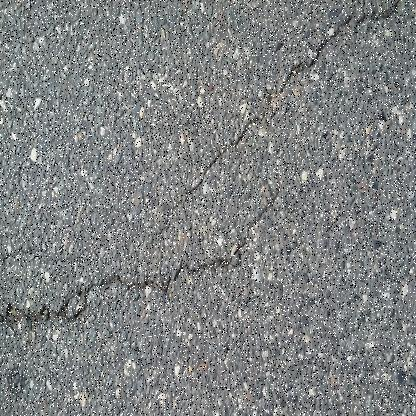Cracks: (187, 0, 415, 195), (0, 197, 278, 345)
